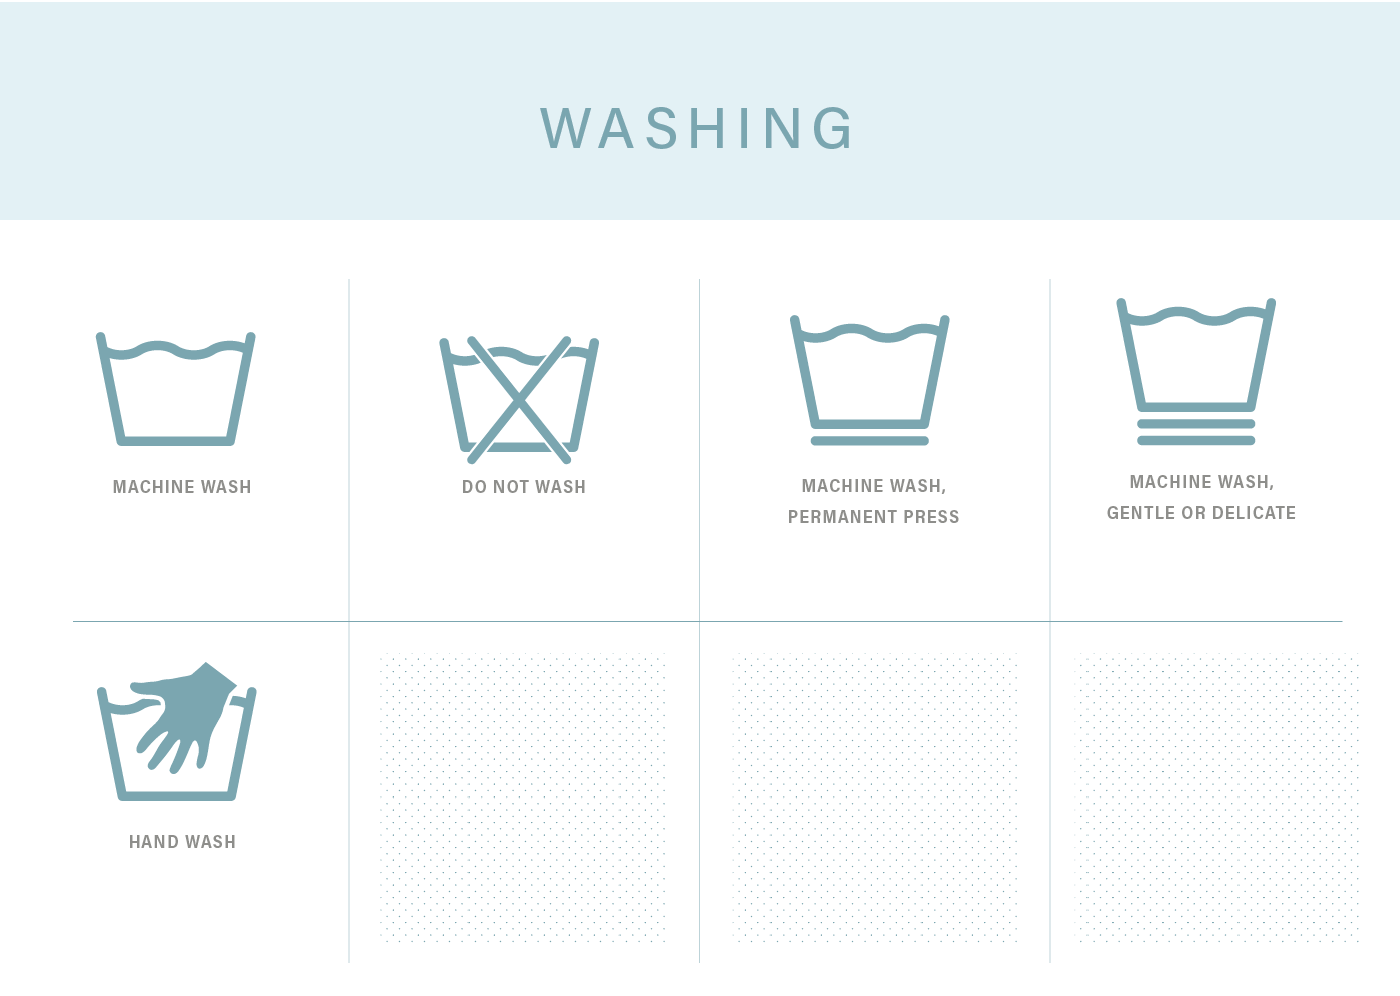do_not_wash: (422, 321, 606, 478)
